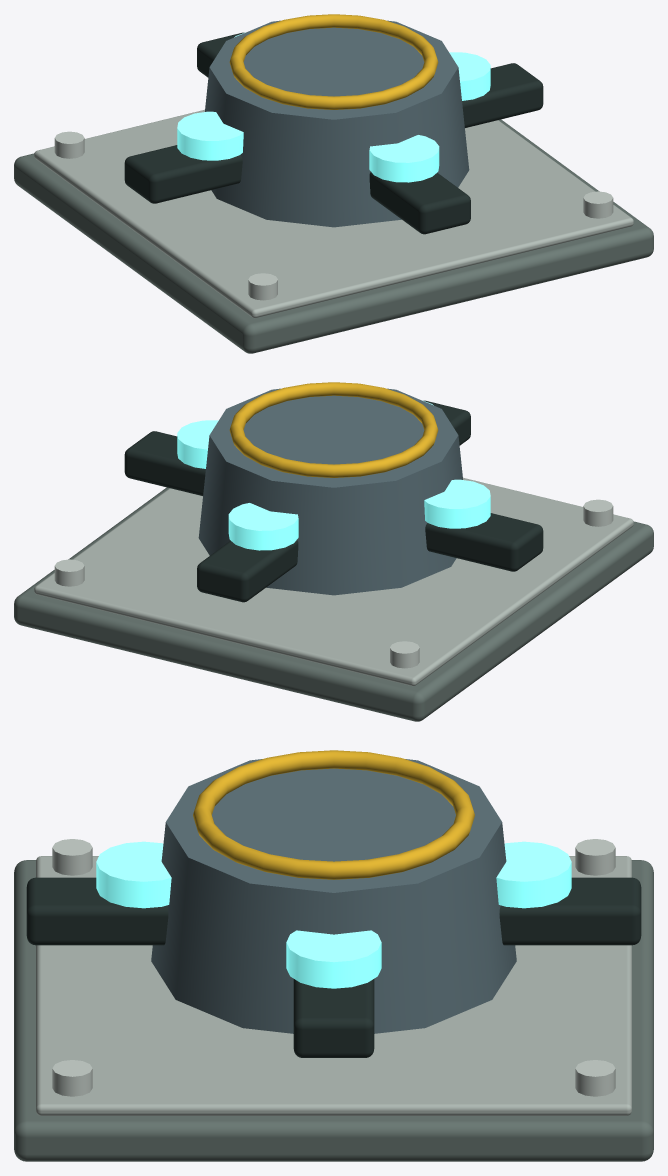
The model's file is flow_node_detail.glb.
The picture shows the model from 3 angles, top to bottom: view 1: azimuth 30°, elevation 25°; view 2: azimuth 150°, elevation 25°; view 3: azimuth 270°, elevation 25°; orthographic projection. The views are drawn at different scales.
Parts seen in each view (by area): view 1: base_deck, flow_hub, base_lower, flow_status_ring, flow_arm_back, flow_arm_left, flow_arm_front, flow_socket_left, flow_socket_back, flow_socket_front, anchor_-1_-1, anchor_1_1 (+2 smaller); view 2: base_deck, flow_hub, base_lower, flow_status_ring, flow_arm_back, flow_arm_right, flow_arm_front, flow_socket_right, flow_socket_back, flow_socket_front, anchor_-1_1, anchor_1_-1 (+2 smaller); view 3: base_deck, flow_hub, base_lower, flow_status_ring, flow_arm_left, flow_arm_right, flow_arm_front, flow_socket_front, flow_socket_left, flow_socket_right, anchor_-1_-1, anchor_-1_1 (+2 smaller).
Boxes of the visible parts, <box> form: base_deck: <box>34,109,633,318</box>; flow_hub: <box>205,20,469,227</box>; base_lower: <box>14,119,653,353</box>; flow_status_ring: <box>229,14,438,109</box>; flow_arm_back: <box>124,145,242,203</box>; flow_arm_left: <box>369,172,470,234</box>; flow_arm_front: <box>462,63,543,127</box>; flow_socket_left: <box>369,135,439,182</box>; flow_socket_back: <box>177,111,243,160</box>; flow_socket_front: <box>449,52,490,100</box>; anchor_-1_-1: <box>54,131,84,158</box>; anchor_1_1: <box>583,191,613,218</box>; base_deck: <box>34,477,633,686</box>; flow_hub: <box>198,388,462,595</box>; base_lower: <box>14,487,653,721</box>; flow_status_ring: <box>229,382,438,477</box>; flow_arm_back: <box>425,513,543,571</box>; flow_arm_right: <box>197,540,298,602</box>; flow_arm_front: <box>124,431,205,495</box>; flow_socket_right: <box>228,503,298,550</box>; flow_socket_back: <box>424,479,490,528</box>; flow_socket_front: <box>177,420,218,468</box>; anchor_-1_1: <box>583,499,613,526</box>; anchor_1_-1: <box>54,559,84,586</box>; base_deck: <box>36,856,631,1115</box>; flow_hub: <box>151,759,516,1033</box>; base_lower: <box>14,860,653,1161</box>; flow_status_ring: <box>193,750,474,879</box>; flow_arm_left: <box>26,877,168,945</box>; flow_arm_right: <box>499,877,641,945</box>; flow_arm_front: <box>293,979,374,1057</box>; flow_socket_front: <box>286,930,381,988</box>; flow_socket_left: <box>96,841,171,908</box>; flow_socket_right: <box>496,841,571,908</box>; anchor_-1_-1: <box>575,839,615,875</box>; anchor_-1_1: <box>52,839,92,875</box>.
Size of the model in its own units: 1.75 by 0.6747 by 1.75.
